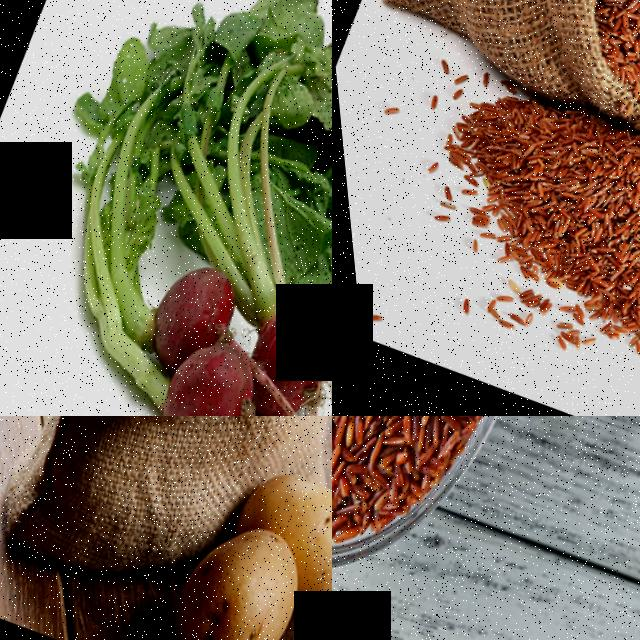potato: (134, 502, 317, 640), (218, 451, 332, 595)
radishes: (50, 104, 332, 416)
red rice: (397, 51, 640, 416), (332, 416, 573, 583), (562, 0, 640, 137)
